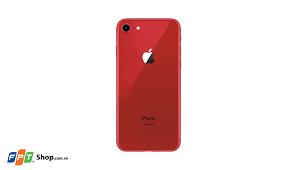iphone: (110, 12, 182, 153)
iphone8: (112, 14, 184, 155)
